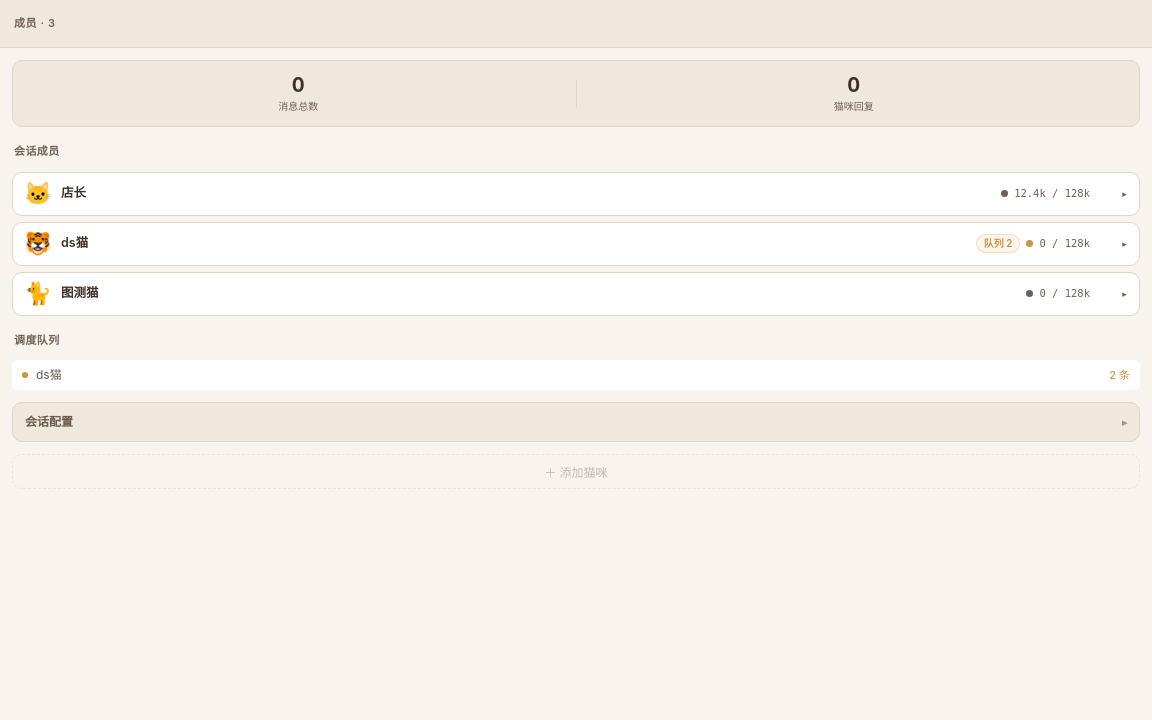
Scenario: SessionAgentsPanel R4 · 弱化卡与内联 trace › B5 附：本会话零执行的猫展开后显式「本会话暂无执行」（不是 0、不是空白）
What coordinates should you click on to do the following:
click the text with class "member-name" showing "图测猫"
I would click on:
 (80, 294)
Its box is [61,284,98,303].
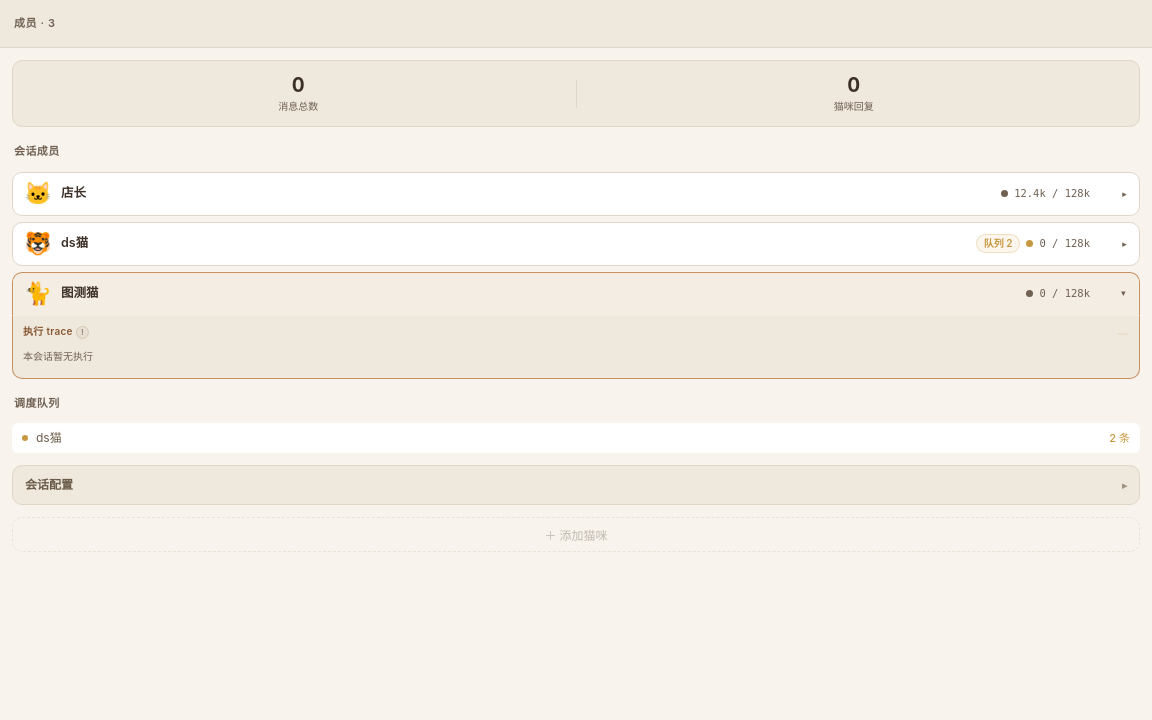
Check: the element with class "trace-inline" is shown, box [12,316,1140,378]
Check: the element with class "trace-inline" shows "本会话暂无执行", box [23,350,93,362]
